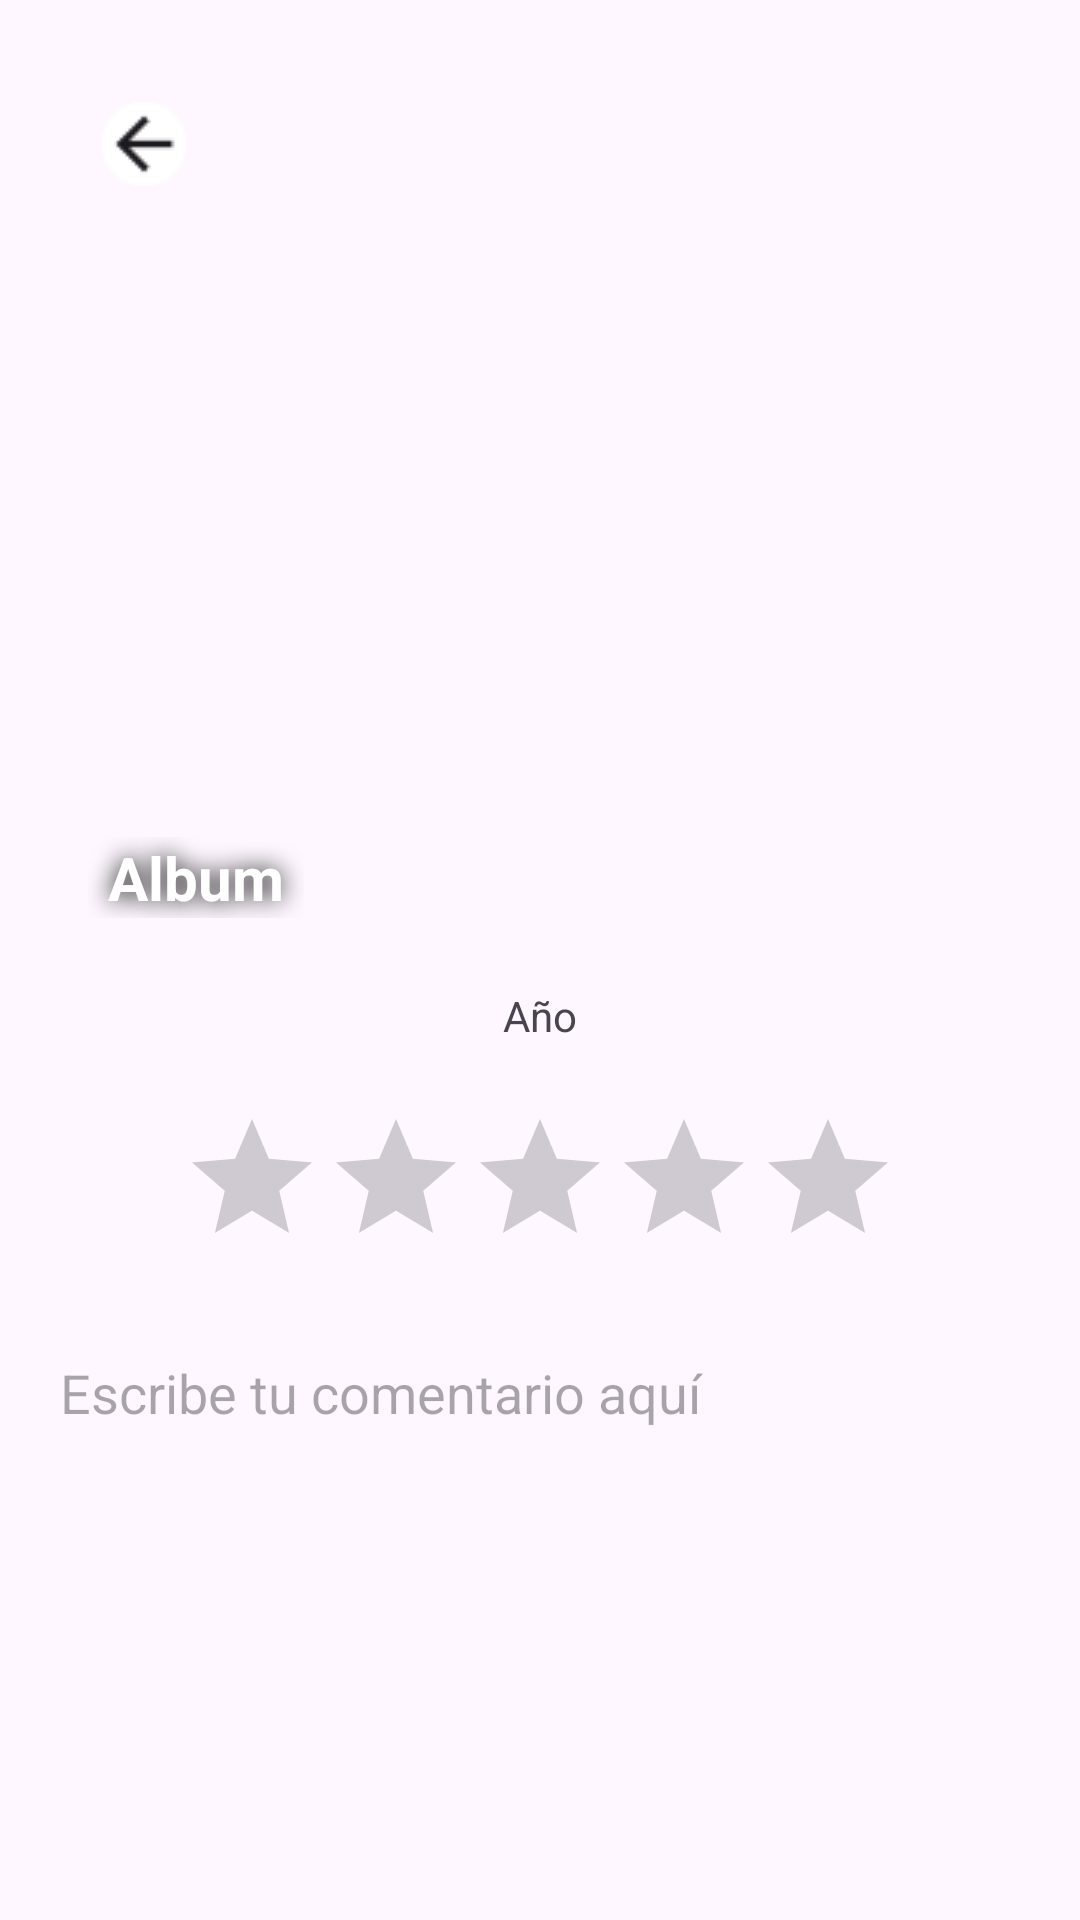

Icons on this 1080×1920 Android screen, each with the point to tap as [x,y]:
Album detail back button: [145,144]
